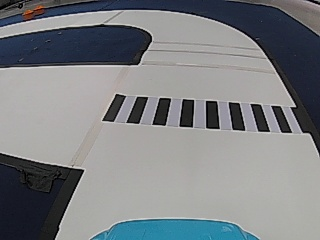CrossWalk: (102, 92, 310, 135)
